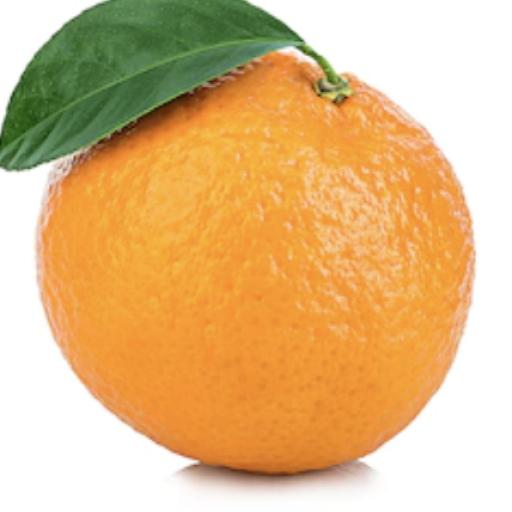orange: (39, 53, 473, 473)
